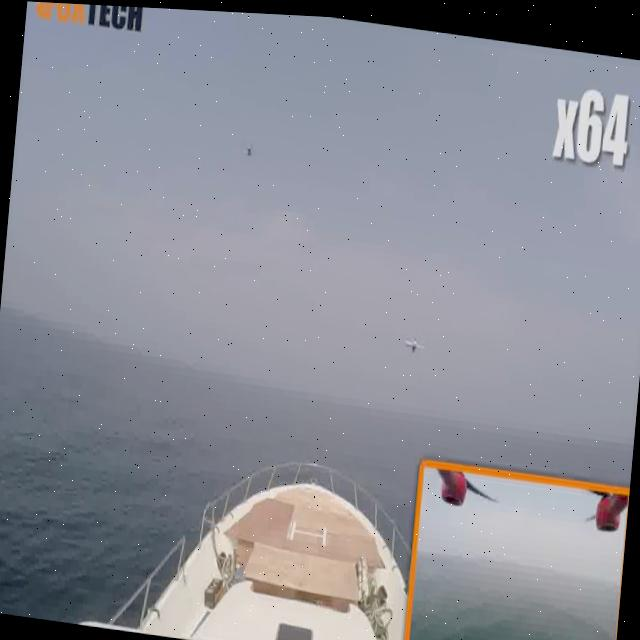drone: (0, 371, 631, 640)
